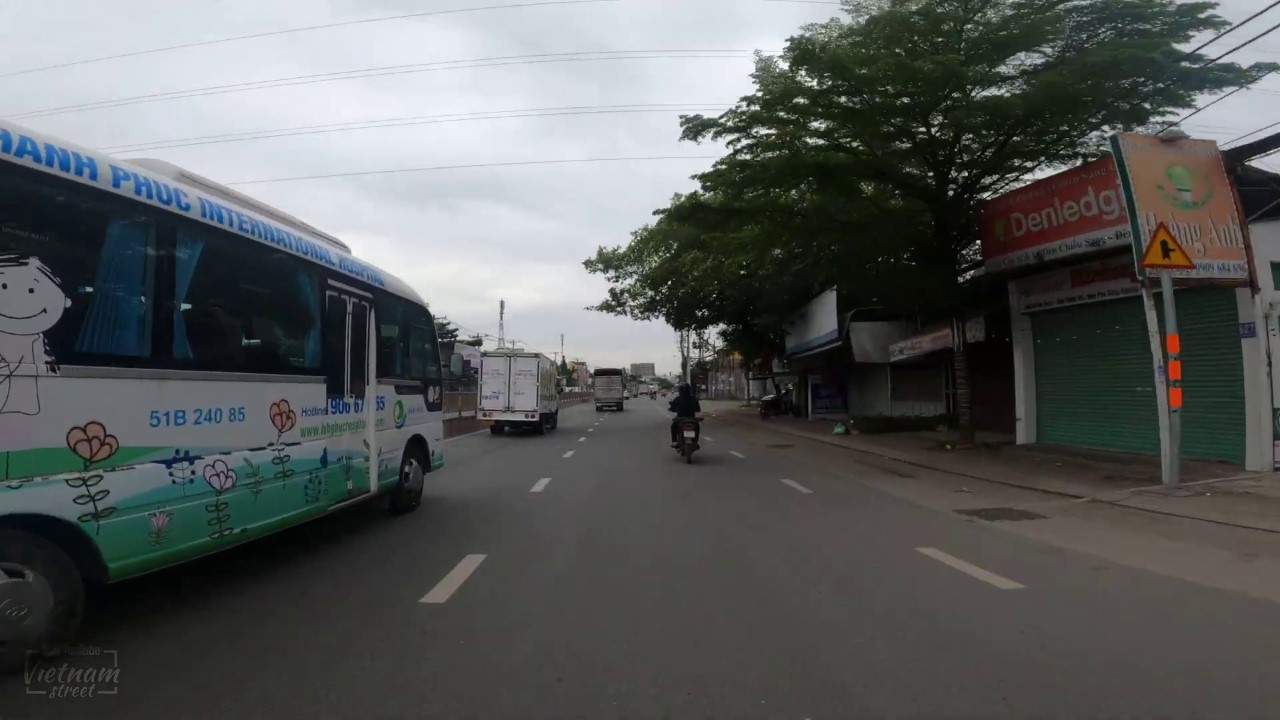giao_khong_uu_tien_phai: (1135, 220, 1198, 271)
